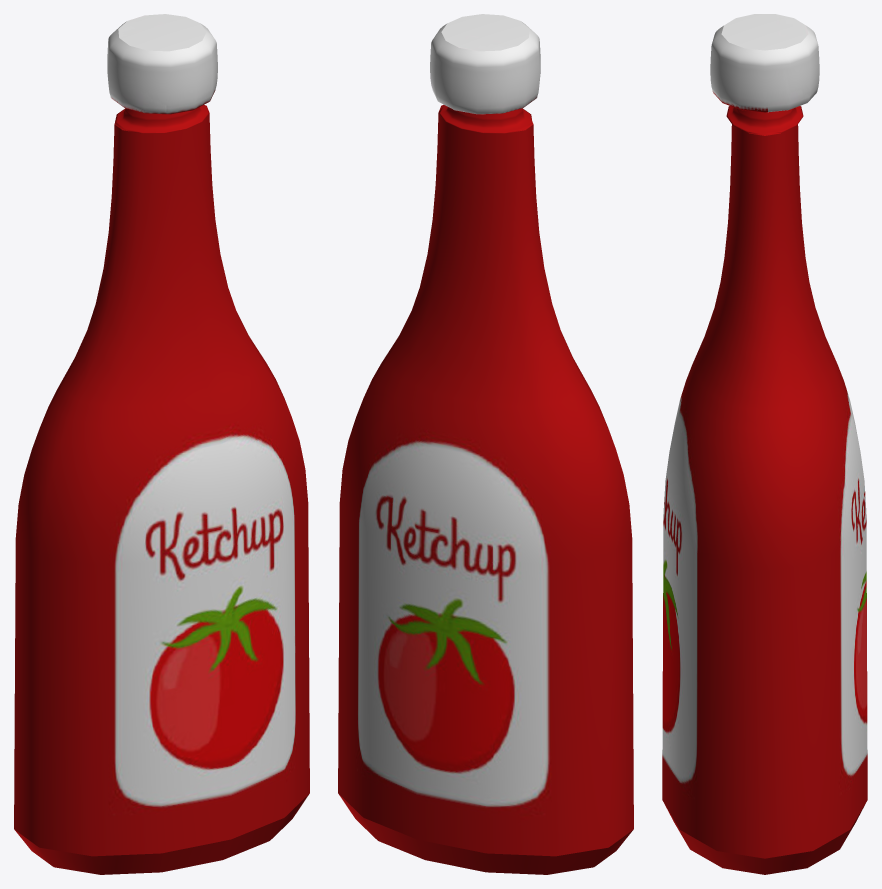
Rendered from Ketchup.fbx.
The picture shows the model from 3 angles, left to right: view 1: azimuth 30°, elevation 25°; view 2: azimuth 150°, elevation 25°; view 3: azimuth 270°, elevation 25°; orthographic projection.
Visible parts, largest first — view 1: Line001; view 2: Line001; view 3: Line001.
Part boxes in pixels (x1=…): Line001: x1=14, y1=14, x2=309, y2=874; Line001: x1=338, y1=14, x2=633, y2=874; Line001: x1=662, y1=14, x2=867, y2=874.
Size of the model in its own units: 4.08 by 11.33 by 2.69.
Materials: 1 (1 with a texture image).
